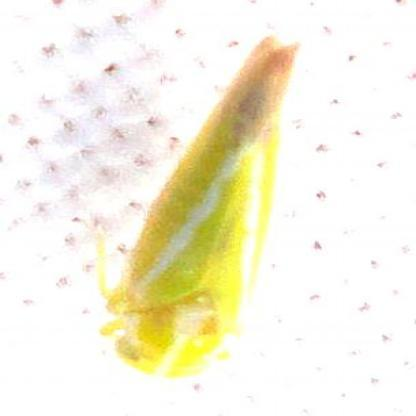green-leafhopper: (100, 38, 317, 392)
